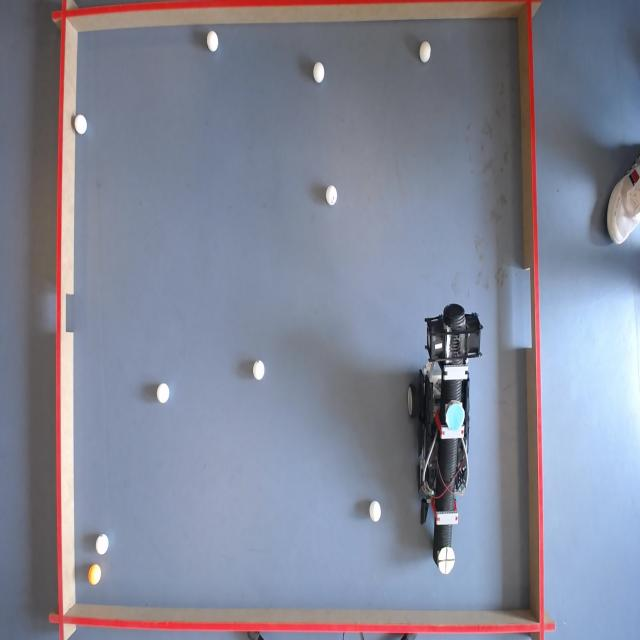orange: (89, 564, 103, 586)
robot: (412, 300, 481, 568)
robot-front: (440, 546, 458, 575)
robot-rear: (447, 404, 467, 434)
white: (368, 502, 382, 524), (96, 533, 110, 555), (158, 383, 172, 404), (252, 360, 266, 381), (313, 62, 326, 84), (75, 114, 88, 136), (420, 41, 432, 64), (207, 31, 220, 52), (325, 185, 337, 205)
